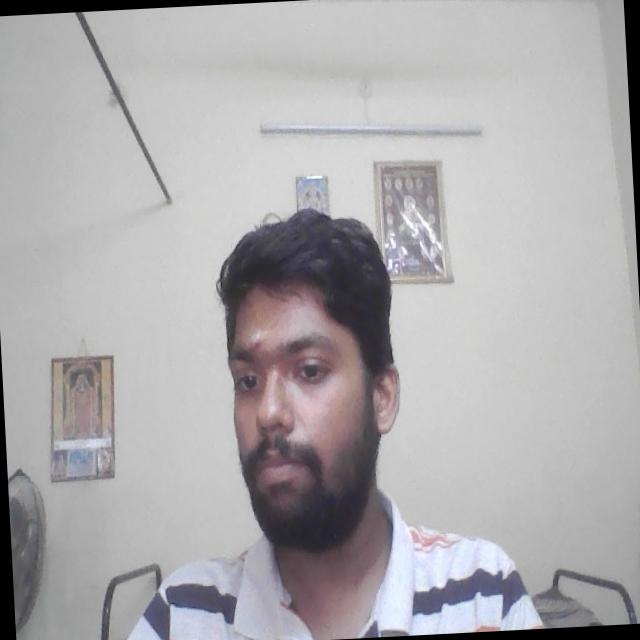Focused: (225, 304, 373, 516)
